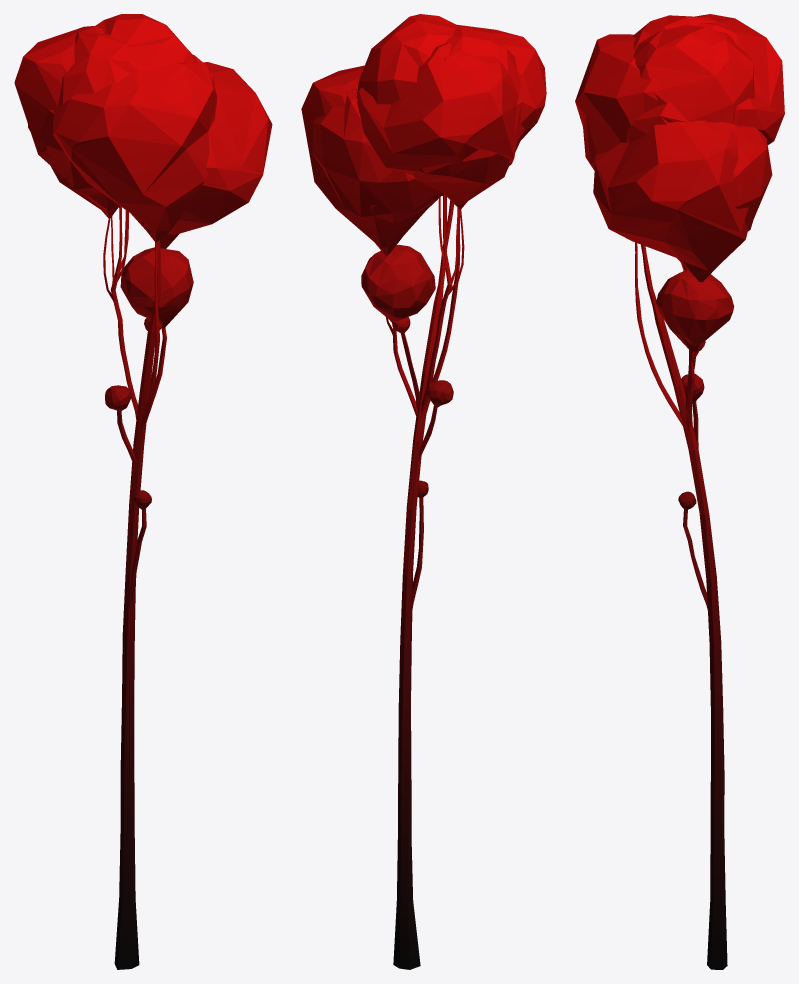
Rendered from TreeBirchTall07.fbx.
3 renders of one model, left to right at view 1: azimuth 30°, elevation 25°; view 2: azimuth 150°, elevation 25°; view 3: azimuth 270°, elevation 25°, orthographic. The views are drawn at different scales.
Visible parts, largest first — view 1: TreeBirchTall07_LOD0; view 2: TreeBirchTall07_LOD0; view 3: TreeBirchTall07_LOD0.
Part boxes in pixels (x1,y1,x2,y2): TreeBirchTall07_LOD0: [14, 14, 272, 969]; TreeBirchTall07_LOD0: [301, 14, 546, 969]; TreeBirchTall07_LOD0: [575, 14, 784, 969].
Size of what is drawn, in the model's own units: 324 by 1347 by 275.
